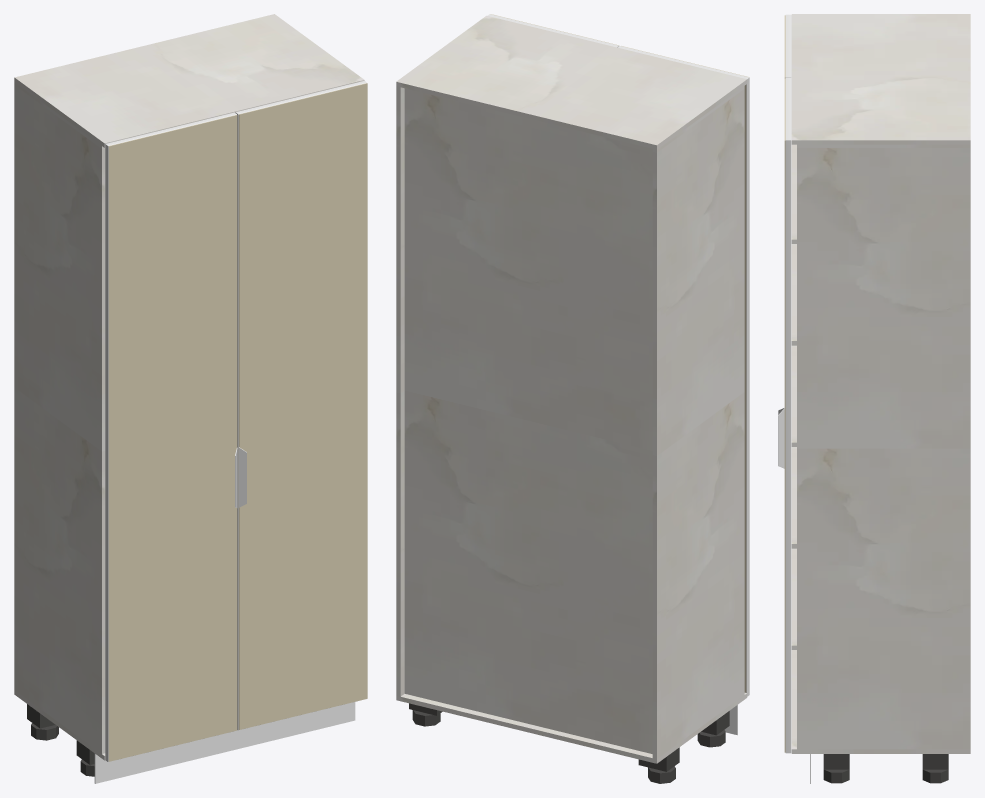
3 renders of one model, left to right at view 1: azimuth 30°, elevation 25°; view 2: azimuth 150°, elevation 25°; view 3: azimuth 270°, elevation 25°, orthographic.
Size of what is drawn, in the model's own units: 0.9 by 2.14 by 0.58.
Materials: 6 (1 with a texture image).
